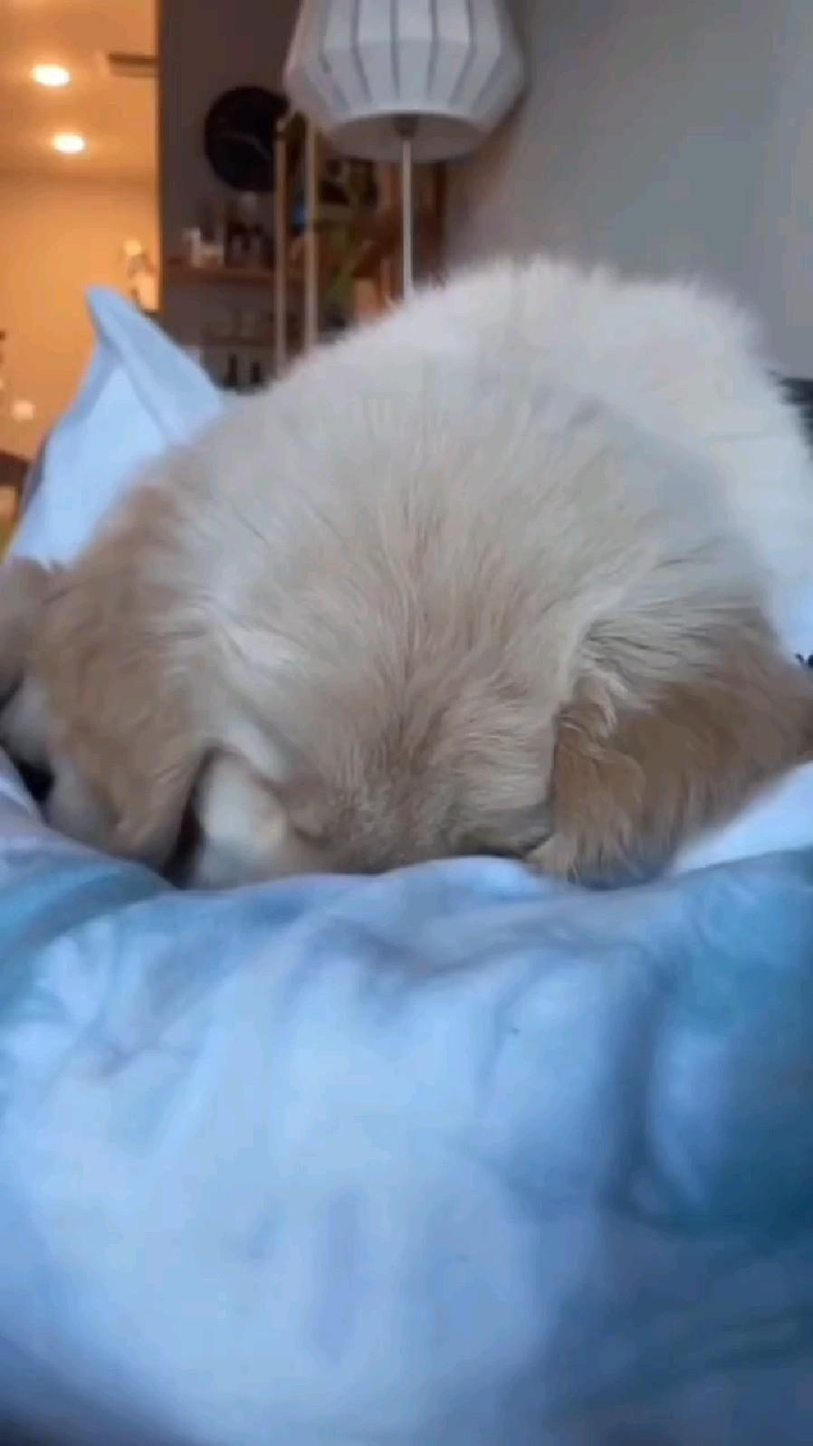puppy-dog: (0, 250, 813, 901)
